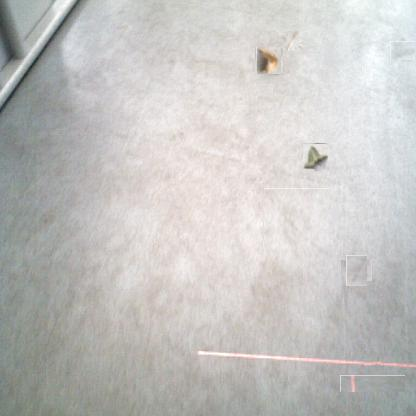dirty: (256, 47, 282, 74), (302, 143, 328, 169), (283, 32, 301, 50)
mark: (263, 188, 329, 257), (352, 363, 393, 404), (344, 258, 369, 284), (391, 40, 414, 62), (168, 130, 184, 142)
